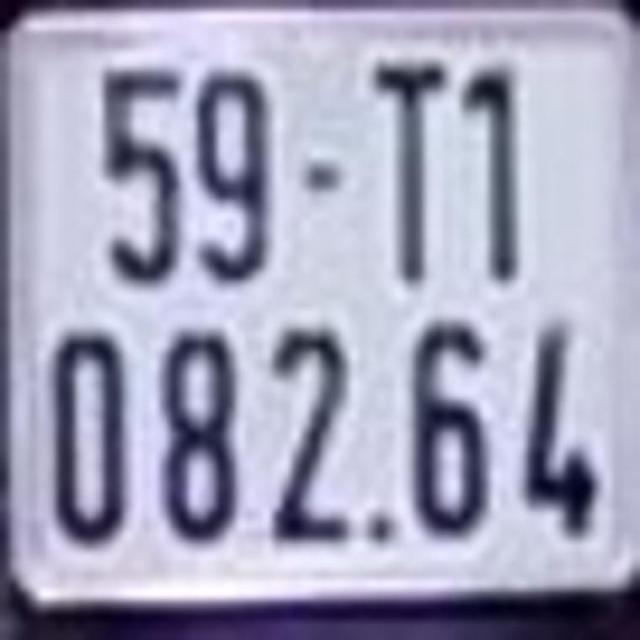0: (51, 324, 132, 544)
1: (459, 61, 534, 286)
2: (265, 319, 352, 546)
4: (517, 307, 598, 544)
5: (96, 60, 183, 282)
6: (408, 314, 491, 538)
8: (158, 321, 238, 538)
9: (190, 60, 272, 282)
T: (366, 60, 454, 282)
